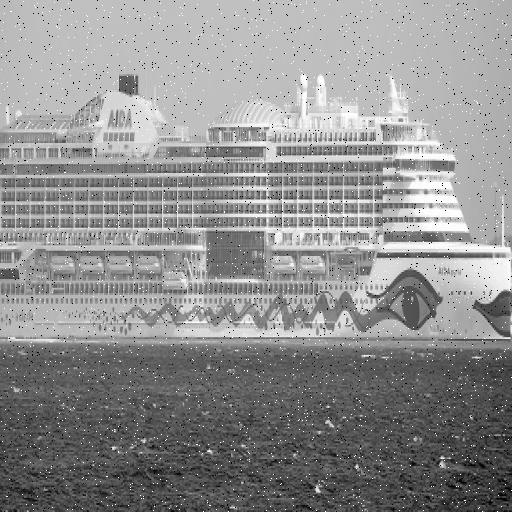cruises: (1, 63, 512, 368)
